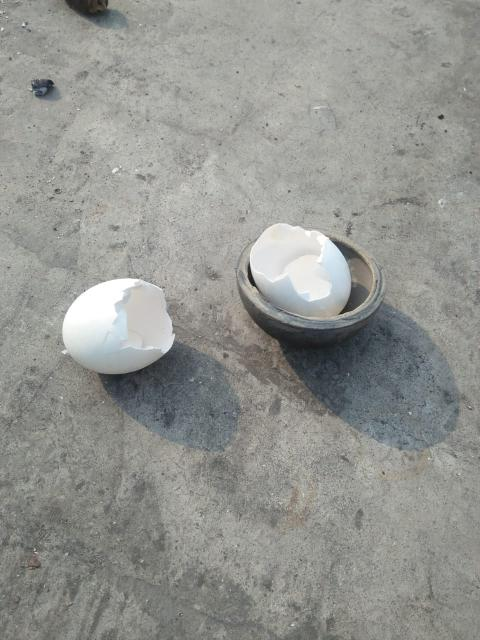Roto: (61, 276, 175, 375), (248, 222, 352, 318)
